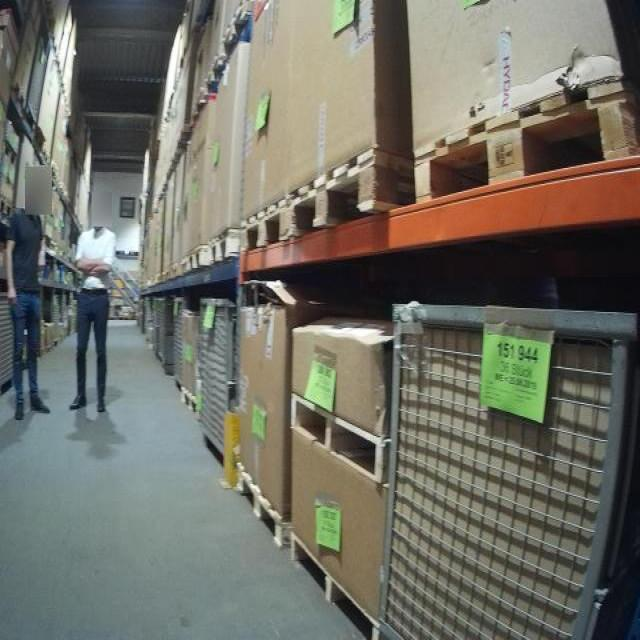pallet: (414, 76, 640, 209), (236, 462, 379, 640), (285, 143, 412, 241), (287, 396, 388, 485), (241, 196, 290, 255), (209, 227, 239, 269), (186, 245, 207, 273), (180, 389, 198, 415), (13, 83, 27, 113), (0, 195, 13, 216)
stillage: (358, 288, 636, 640), (193, 291, 248, 471), (24, 28, 52, 137), (2, 290, 24, 404), (170, 297, 190, 398), (160, 297, 170, 370), (151, 294, 158, 366)
